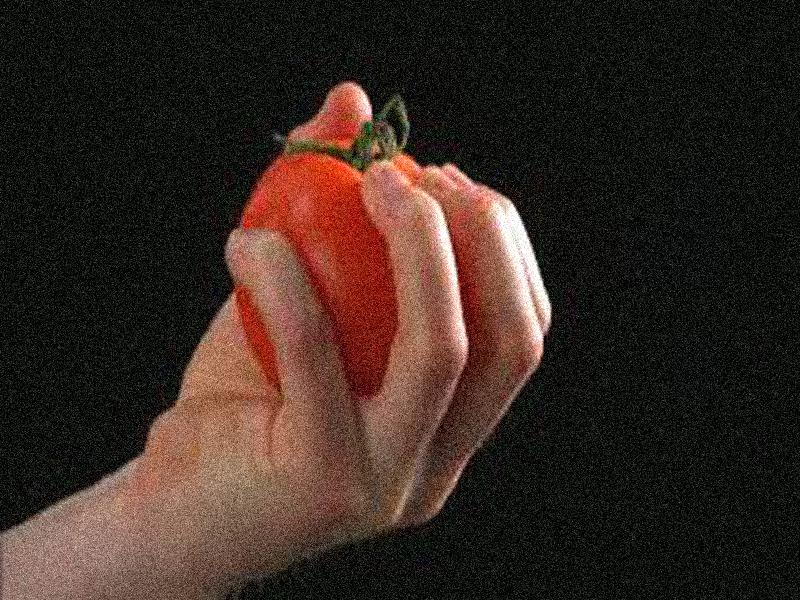Tomato: (234, 150, 424, 404)
